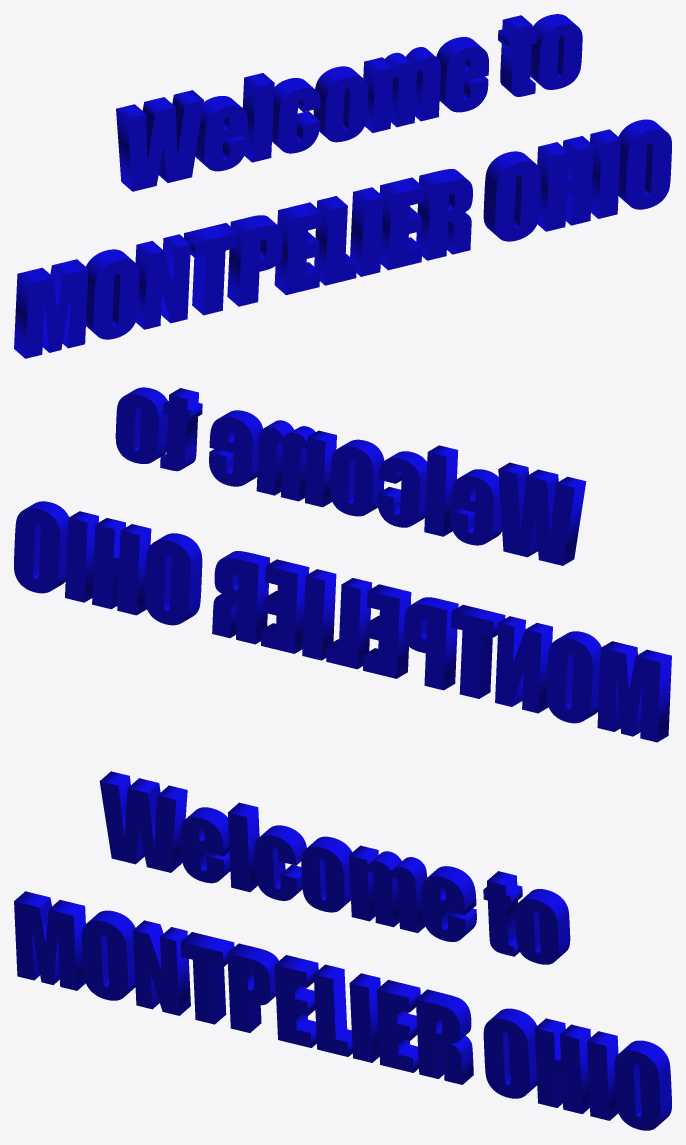
The model's file is asset.glb.
3 renders of one model, top to bottom at view 1: azimuth 30°, elevation 25°; view 2: azimuth 150°, elevation 25°; view 3: azimuth 330°, elevation 25°, orthographic.
Parts seen in each view (by area): view 1: Text; view 2: Text; view 3: Text.
Part boxes in pixels (bbox=[...]): Text: bbox=[14, 14, 671, 358]; Text: bbox=[14, 387, 671, 742]; Text: bbox=[14, 771, 671, 1130].
Bounding box in the file's own units: 10.5 × 3.55 × 0.6017.
